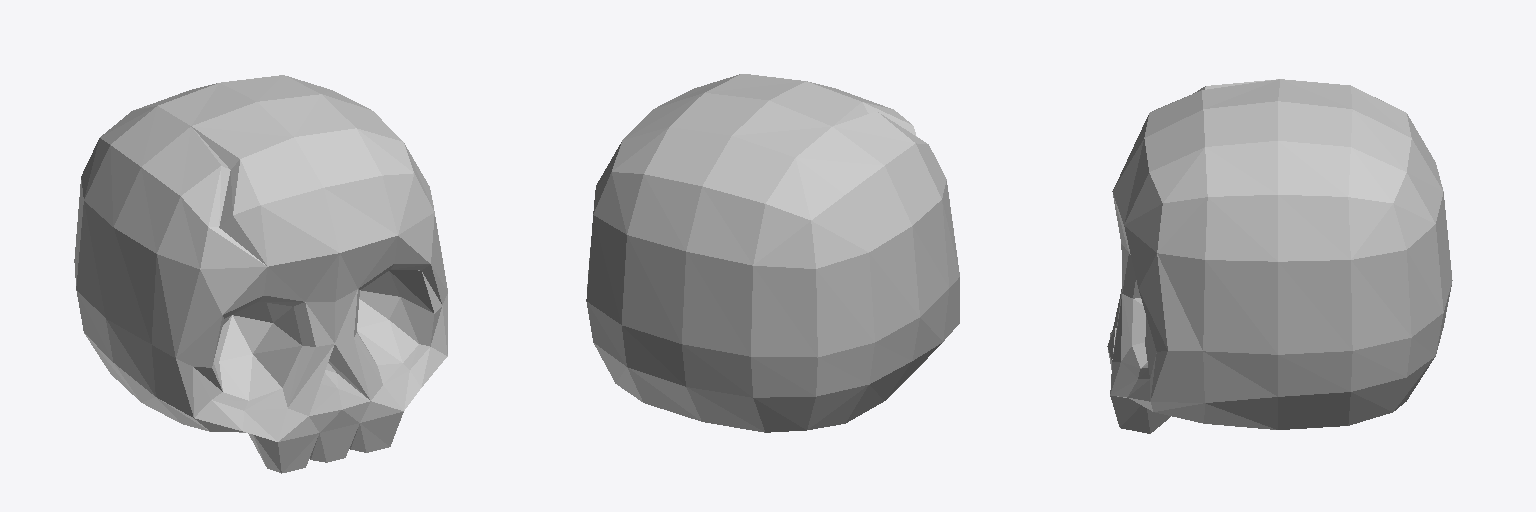
Rendered from skull.obj.
3 views of the same model, side by side, from view 1: azimuth 30°, elevation 25°; view 2: azimuth 150°, elevation 25°; view 3: azimuth 270°, elevation 25° (orthographic).
Visible parts, largest first — view 1: skull_Cube.540; view 2: skull_Cube.540; view 3: skull_Cube.540.
Part boxes in pixels (bbox=[...]): skull_Cube.540: bbox=[74, 75, 447, 473]; skull_Cube.540: bbox=[586, 74, 959, 432]; skull_Cube.540: bbox=[1107, 79, 1452, 433].
Size of the model in its own units: 0.9176 by 0.8982 by 0.9072.